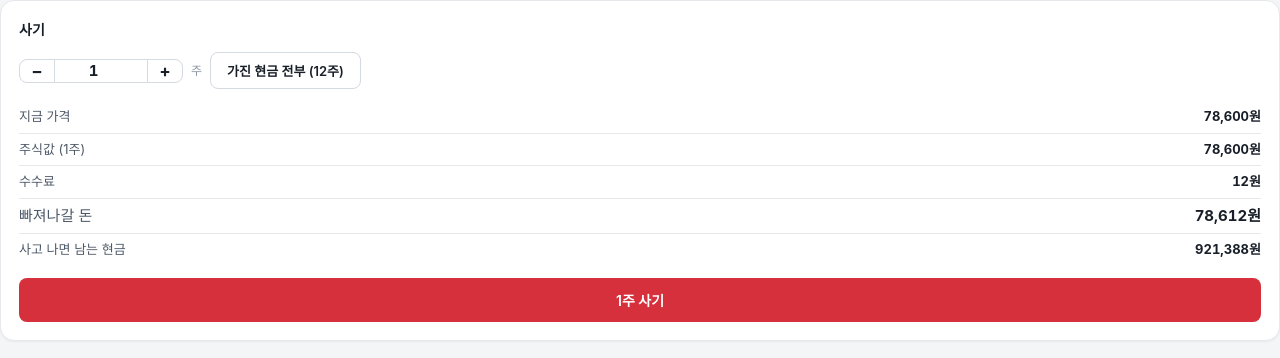
Scenario: BuyPanel 예상금액 › + 버튼으로 수량이 늘어난다
Click the button named "살 수량 1 늘리기": click(165, 70) [147,58,183,82]
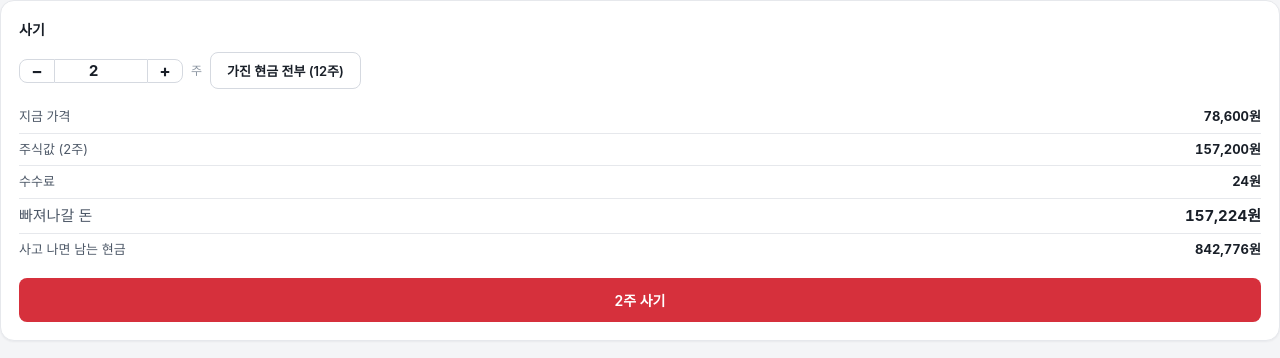
Now the number field named "살 수량" holds "2", box [55,58,147,82]
